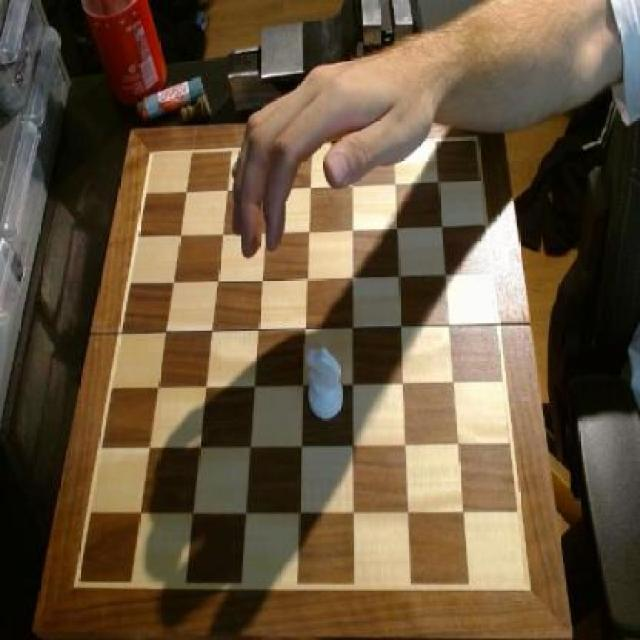white-king: (303, 344, 348, 424)
